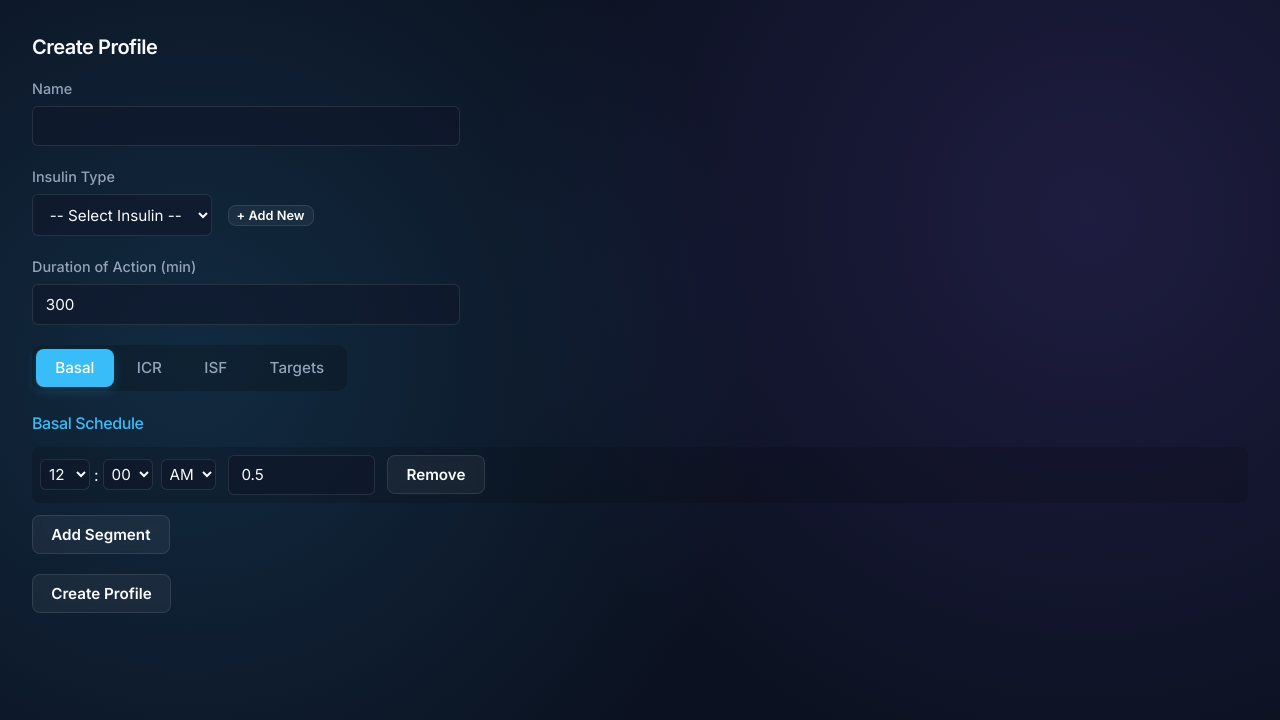
Test: shows validation error for negative duration
Replace the text in the number field labelled "Duration of Action (min)" with "-10" at (246, 304), box top-left (32, 284), bottom-right (460, 325)
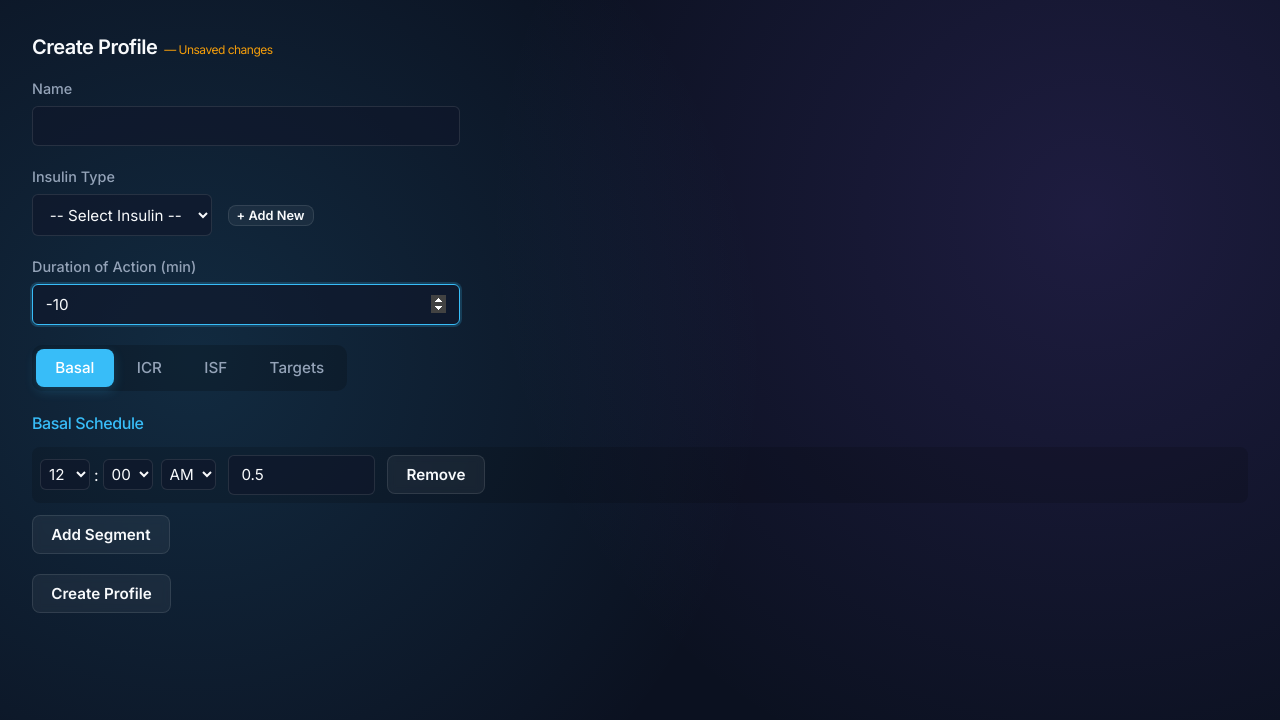
Click the button "Create Profile" at (101, 594), box top-left (32, 574), bottom-right (171, 613)
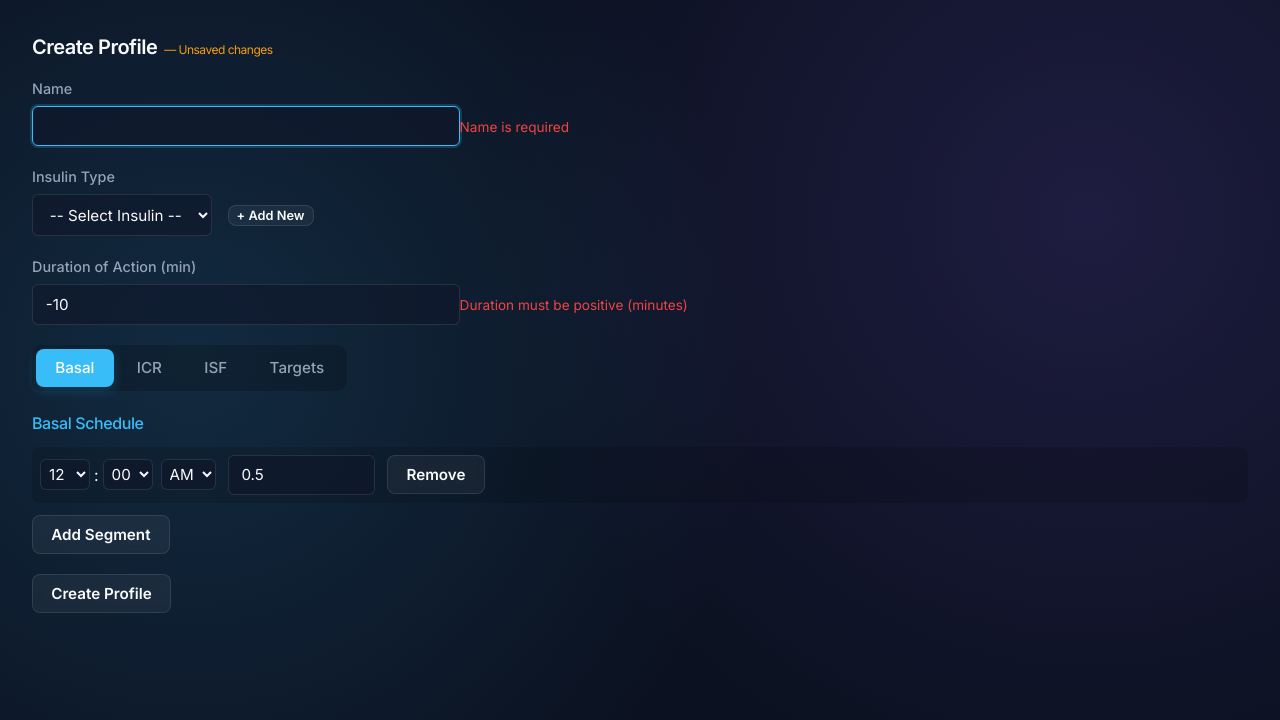
Check: the text "Duration must be positive (minutes)" is shown, box top-left (460, 297), bottom-right (688, 313)
